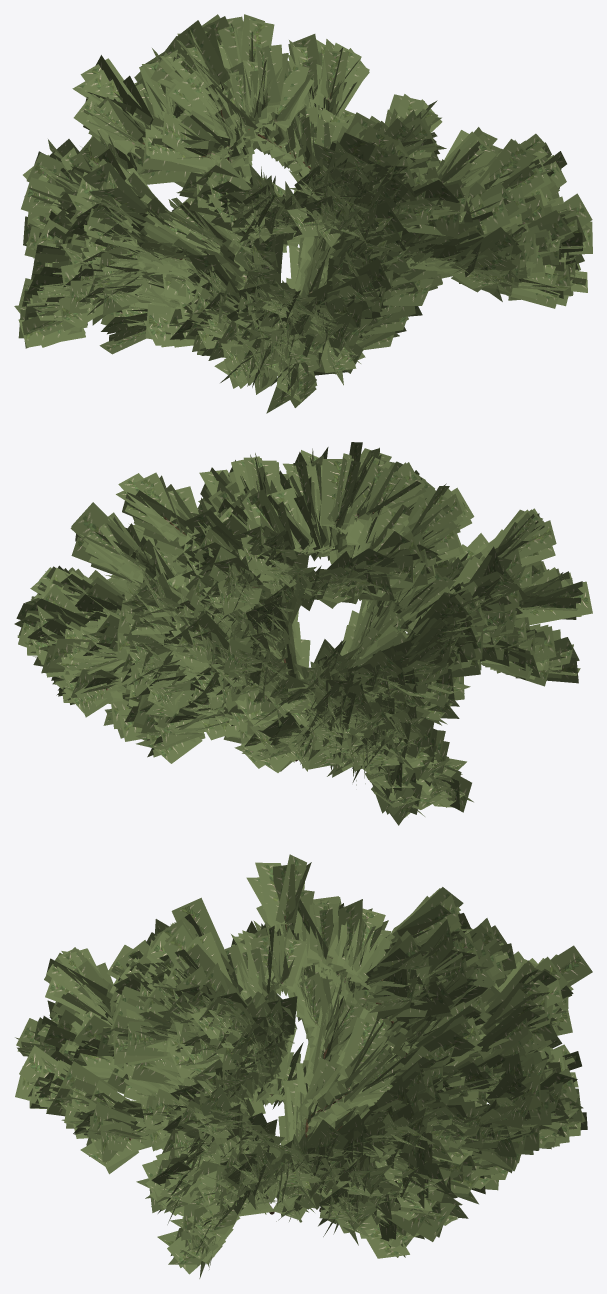
The model's file is thorn_scrub_v01.glb.
3 renders of one model, top to bottom at view 1: azimuth 30°, elevation 25°; view 2: azimuth 150°, elevation 25°; view 3: azimuth 270°, elevation 25°, orthographic. The views are drawn at different scales.
Visible parts, largest first — view 1: thorn_scrub_v01; view 2: thorn_scrub_v01; view 3: thorn_scrub_v01.
Boxes of the visible parts, x1,y1,x2,y2 form: thorn_scrub_v01: (14, 14, 592, 413); thorn_scrub_v01: (14, 442, 592, 825); thorn_scrub_v01: (15, 854, 592, 1278).
Size of the model in its own units: 2.71 by 1.5 by 2.56.
2 materials, 2 textured.
